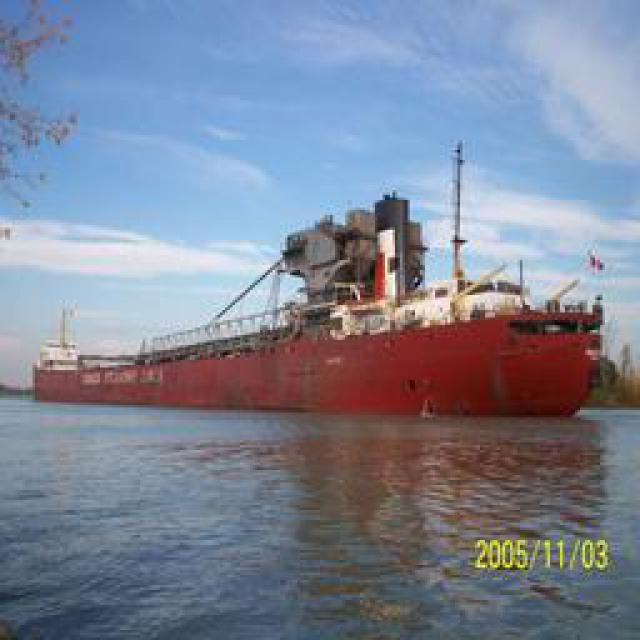Ship: (28, 179, 593, 412)
